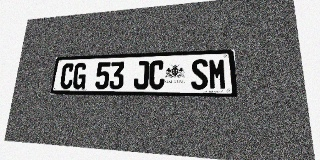3: (109, 62, 125, 89)
5: (95, 62, 111, 89)
C: (149, 60, 165, 89), (59, 63, 75, 89)
G: (72, 63, 87, 89)
J: (133, 61, 149, 89)
M: (208, 58, 227, 90)
S: (191, 59, 208, 90)
